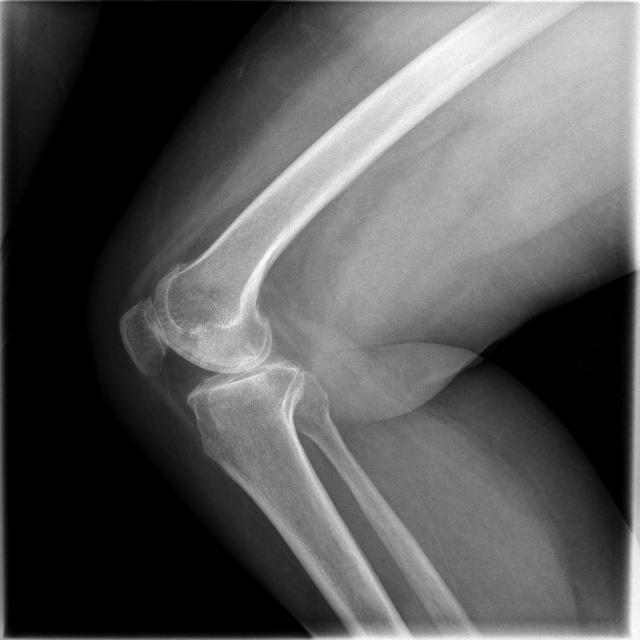Knee: (114, 253, 307, 458)
